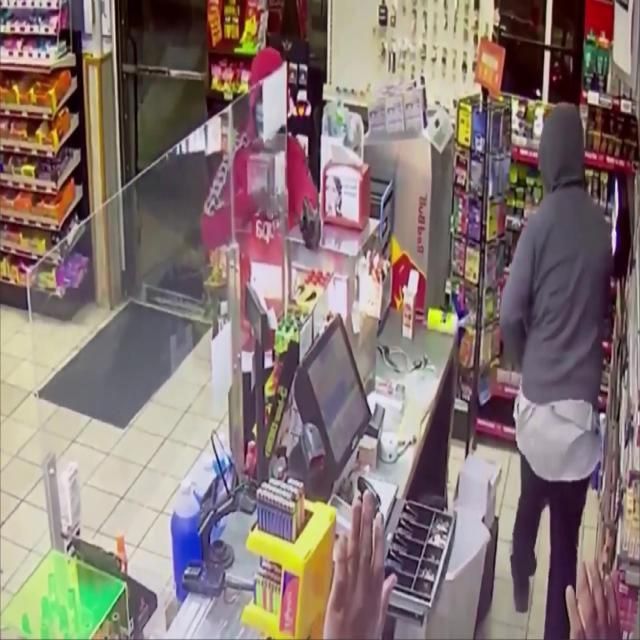weapon: (298, 196, 320, 252)
